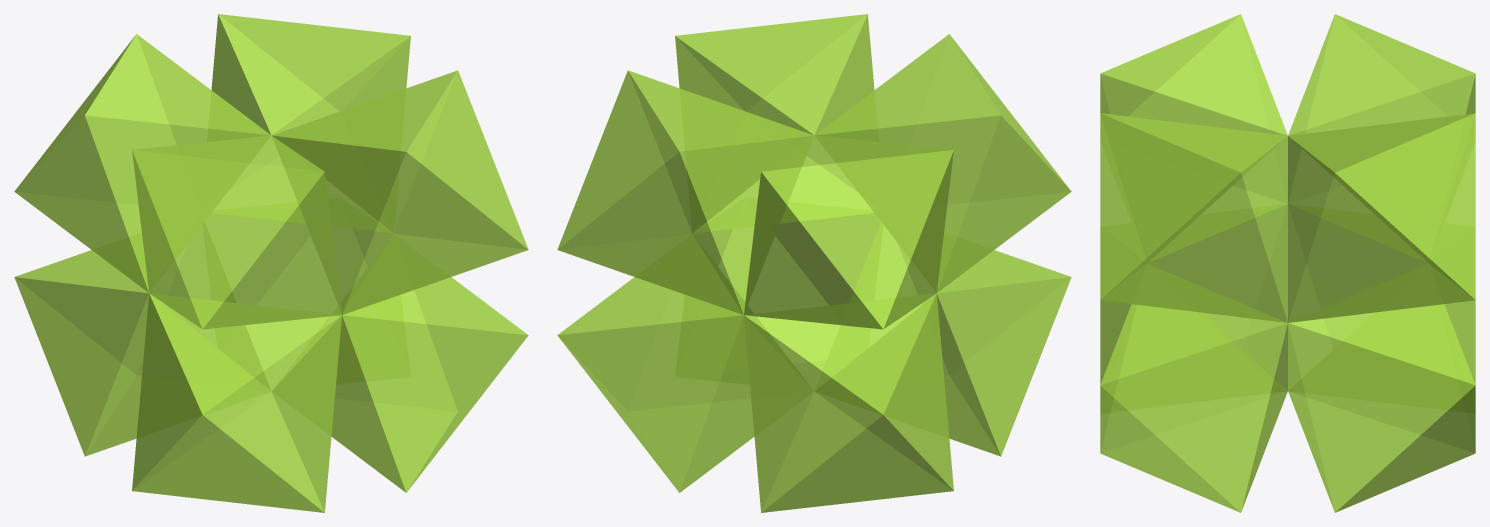
Rendered from 03_Octagyraugmented_Octahedron.obj.
The picture shows the model from 3 angles, left to right: view 1: azimuth 30°, elevation 25°; view 2: azimuth 150°, elevation 25°; view 3: azimuth 270°, elevation 25°; orthographic projection.
Bounding box in the file's own units: 1.89 × 1.89 × 1.89.
